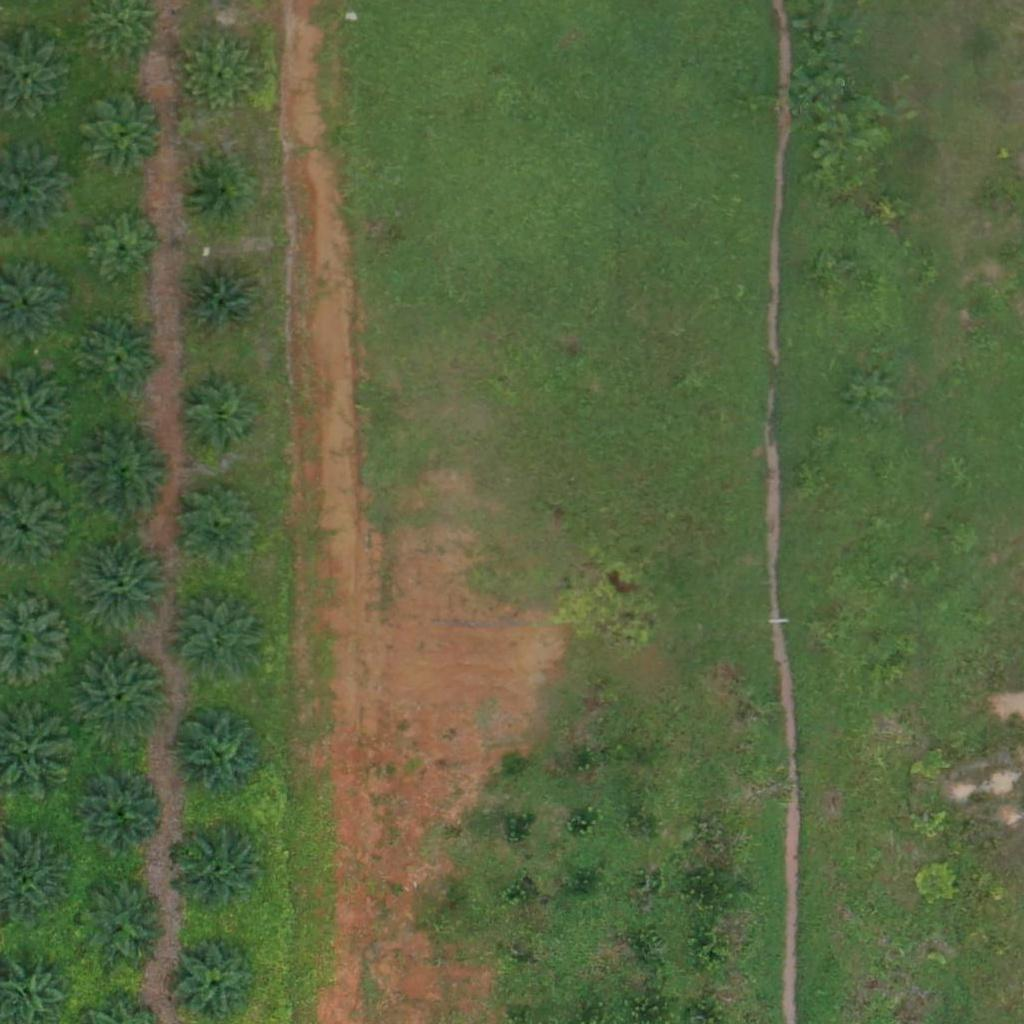Kelapa_Sawit: (77, 535, 177, 636), (70, 646, 170, 747), (169, 705, 269, 806), (73, 424, 173, 524), (175, 379, 263, 467), (78, 316, 166, 404), (75, 770, 163, 858), (177, 826, 265, 914), (76, 88, 163, 176), (179, 260, 266, 348), (79, 882, 166, 970), (175, 480, 262, 568), (175, 595, 262, 683), (87, 214, 162, 289), (179, 35, 254, 110), (184, 158, 247, 221)
